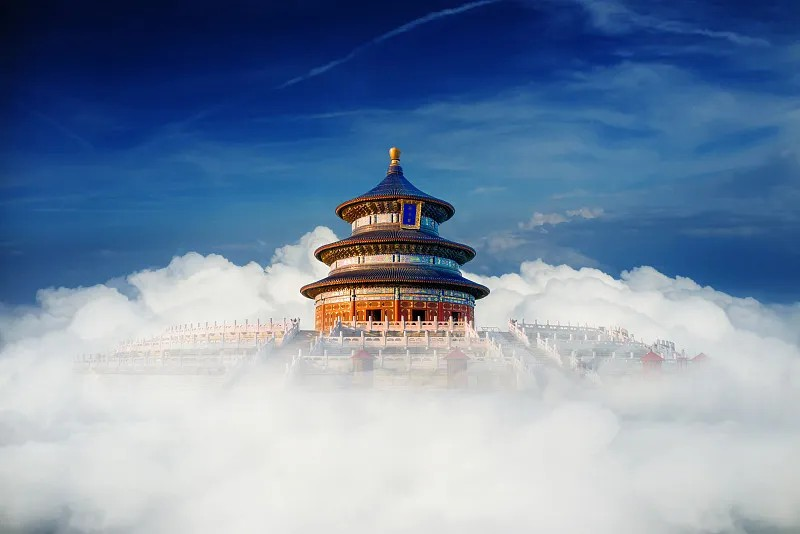Heaven: (300, 148, 490, 332)
